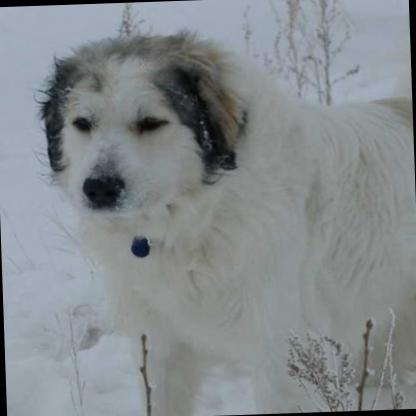Great_Pyrenees: (37, 25, 416, 416)
